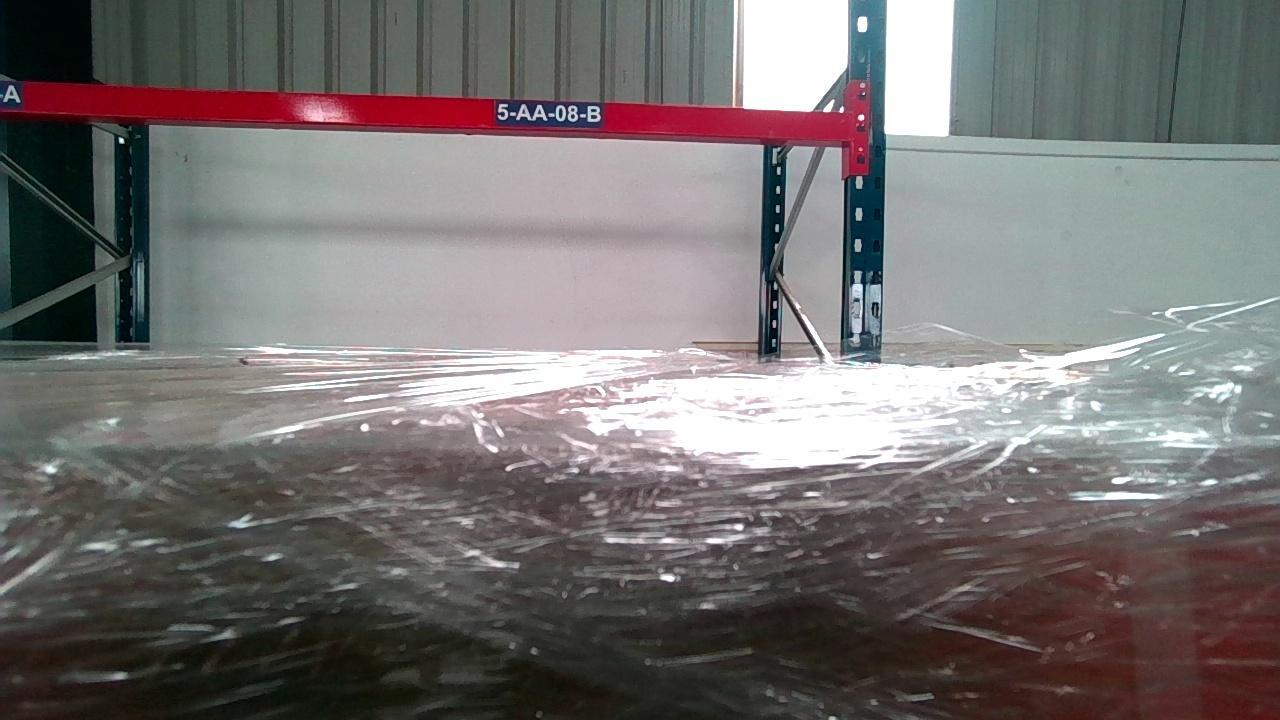h_rack: (0, 78, 857, 141)
